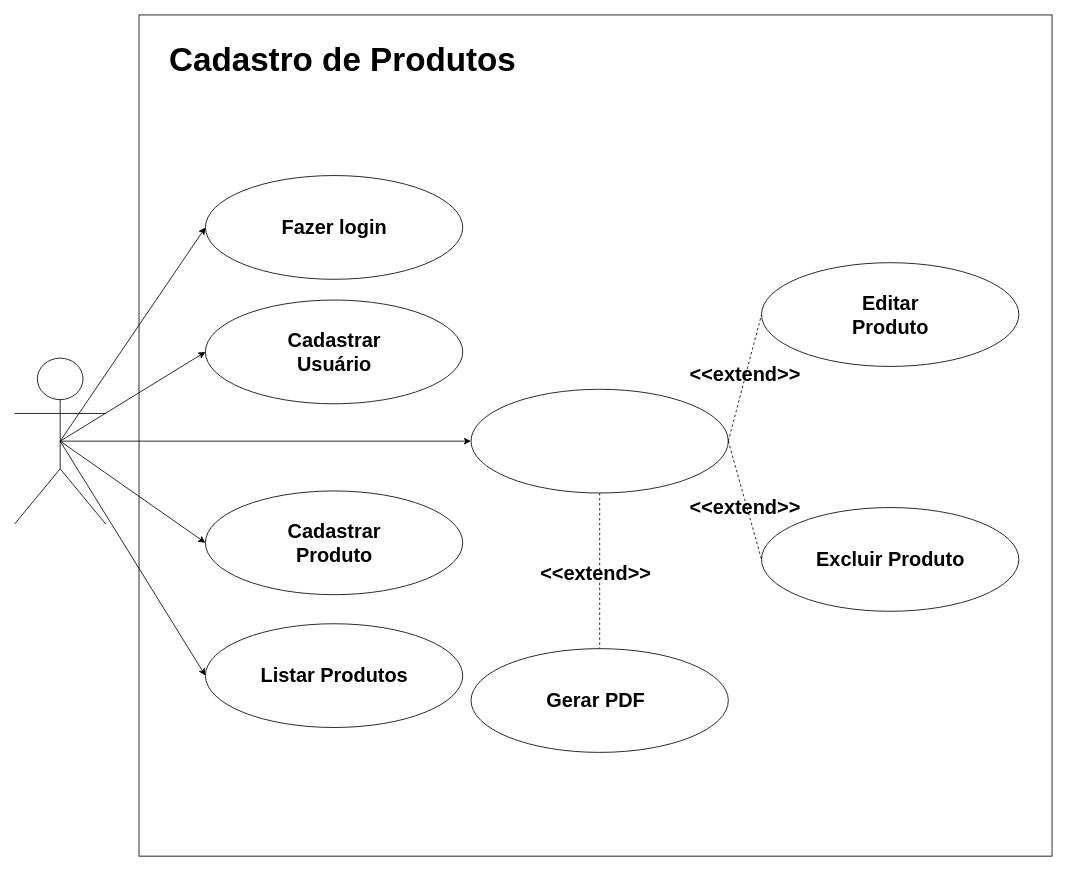
This 1067x871 diagram has some shape labels left out. Each missing label, with the centre of its shape:
"Gerenciar Estoque" belongs at pixel 599 440.
"Usuário" belongs at pixel 60 440.
